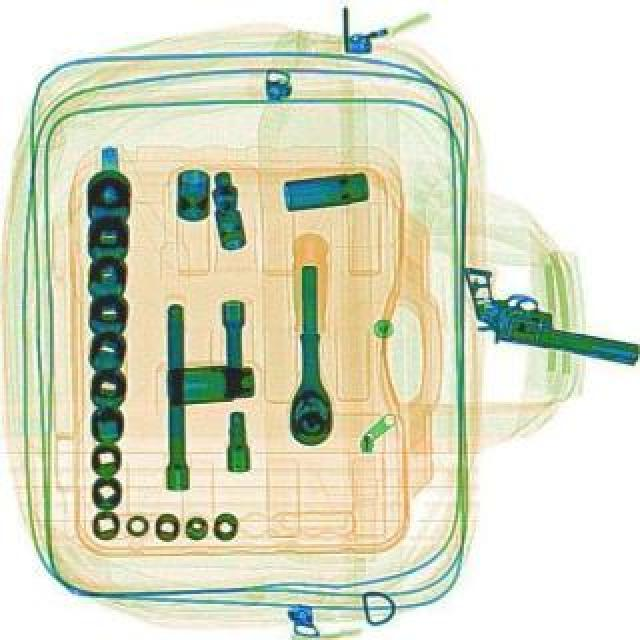gun: (446, 264, 638, 366)
